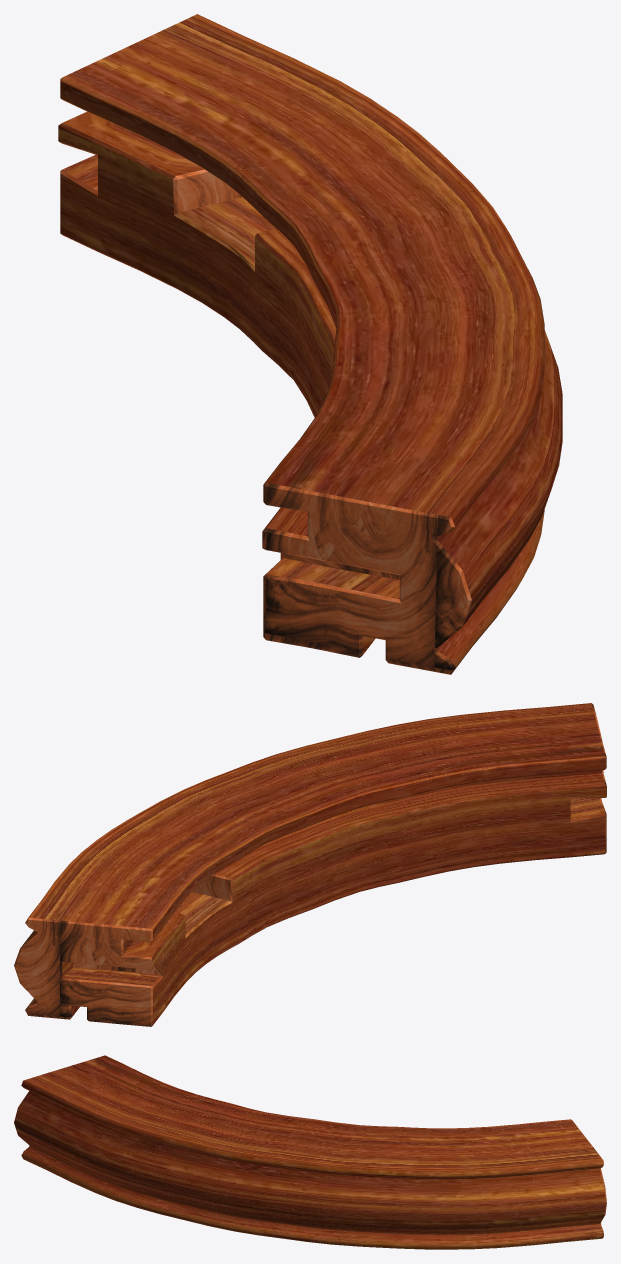
The model's file is YuanDeng_J_D_biankuang_4.FBX.
3 views of the same model, one above another, from view 1: azimuth 30°, elevation 25°; view 2: azimuth 150°, elevation 25°; view 3: azimuth 270°, elevation 25° (orthographic). The views are drawn at different scales.
Visible parts, largest first — view 1: YuanDeng_J_D_biankuang_4; view 2: YuanDeng_J_D_biankuang_4; view 3: YuanDeng_J_D_biankuang_4.
Part boxes in pixels (x1,y1,x2,y2): YuanDeng_J_D_biankuang_4: (58,14,562,674); YuanDeng_J_D_biankuang_4: (14,703,606,1026); YuanDeng_J_D_biankuang_4: (14,1055,606,1249).
Size of the model in its own units: 11.54 by 3.57 by 23.86.
Materials: 2 (2 with a texture image).
